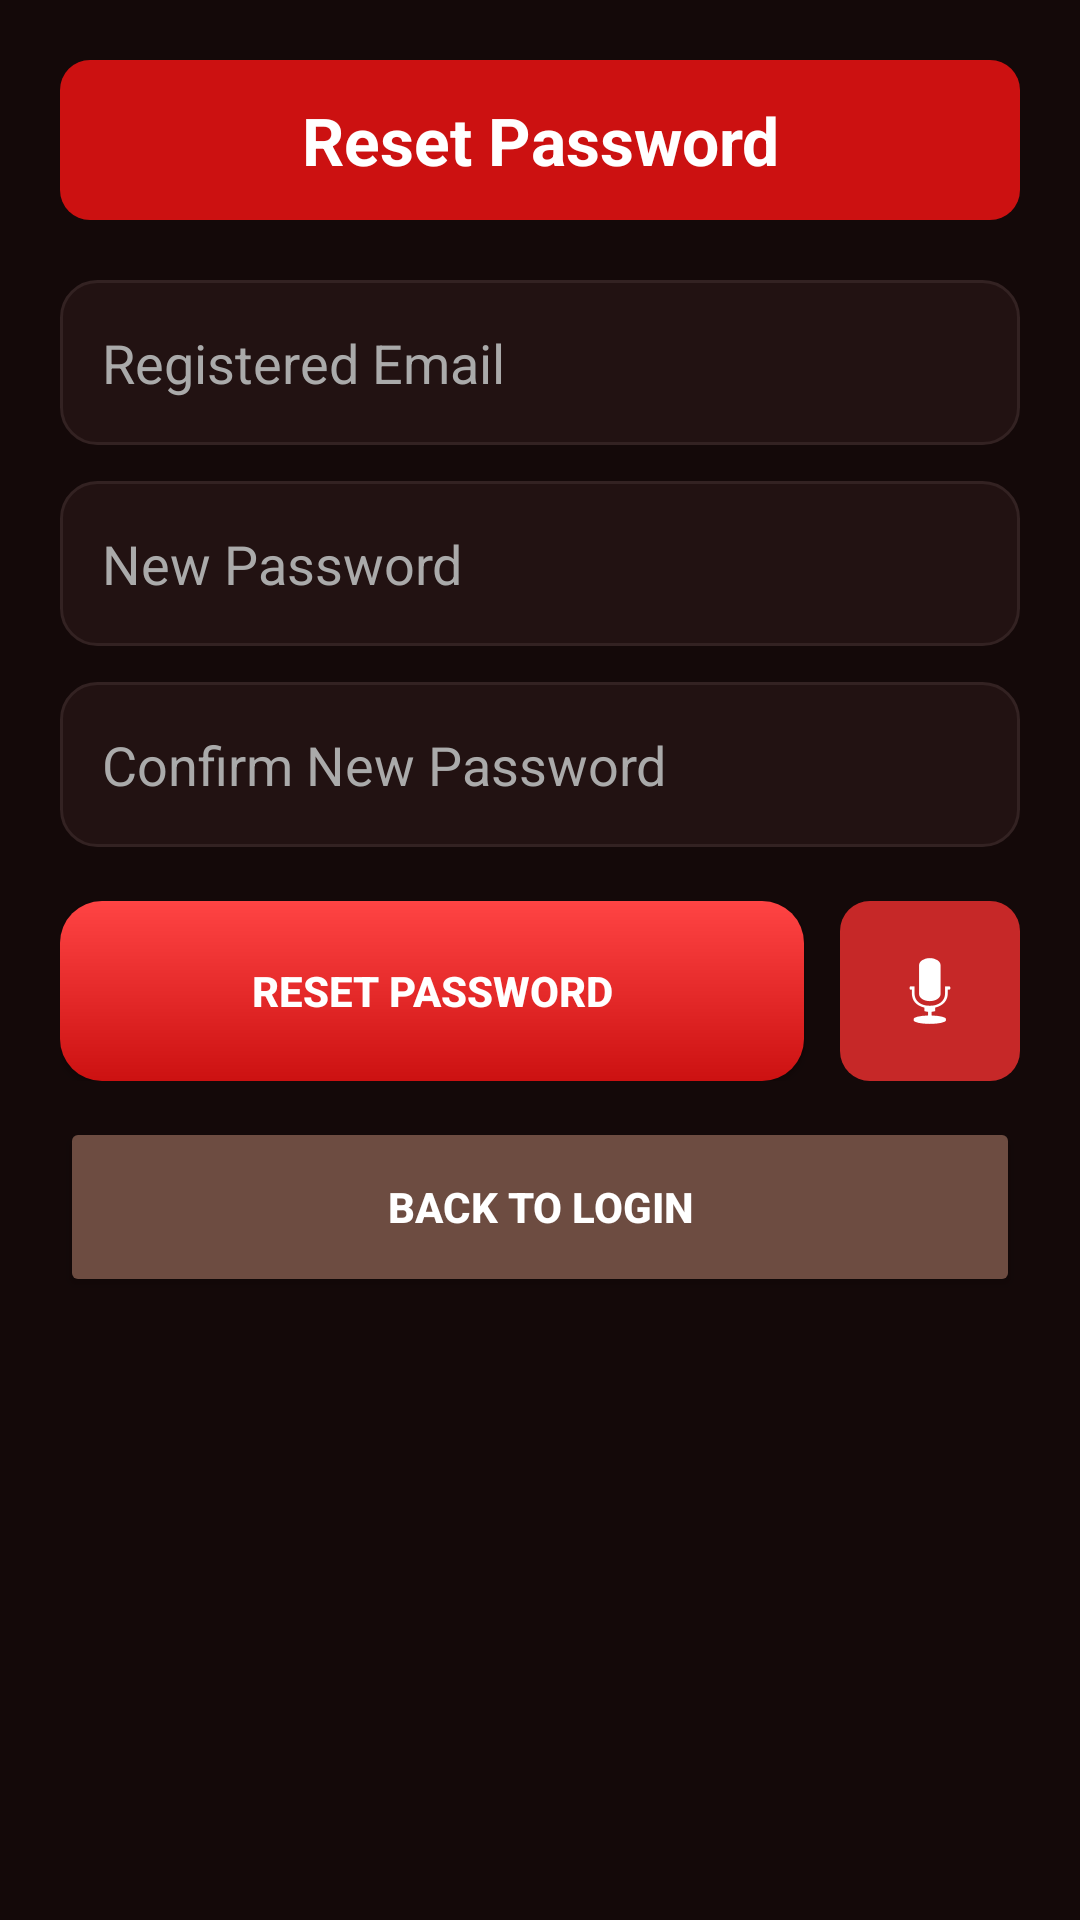

Icon bounding boxes for this 1080 x 1920 phone screenshot, format Rect(x1, y1, x2, y2):
Voice Command: Rect(840, 901, 1020, 1081)
